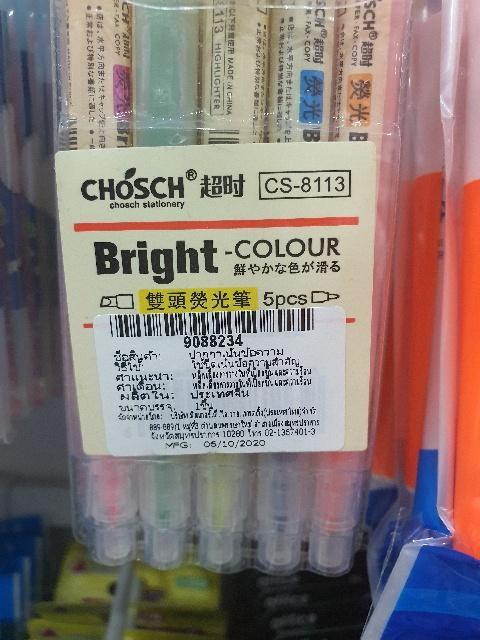Barcode: (101, 304, 324, 349)
